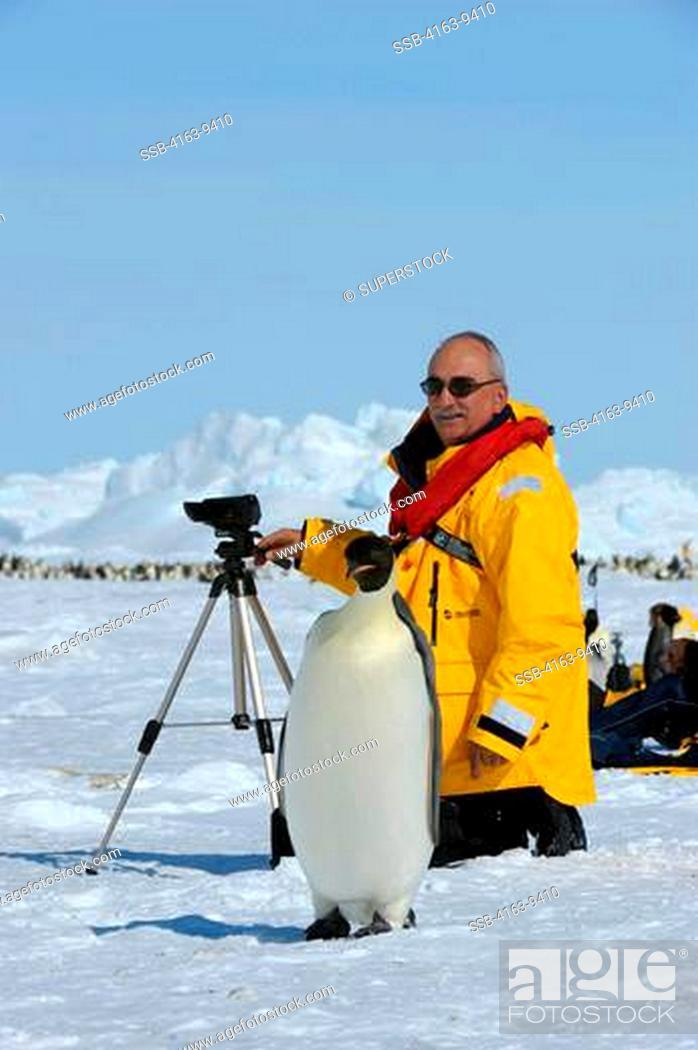emporer: (246, 520, 475, 952)
